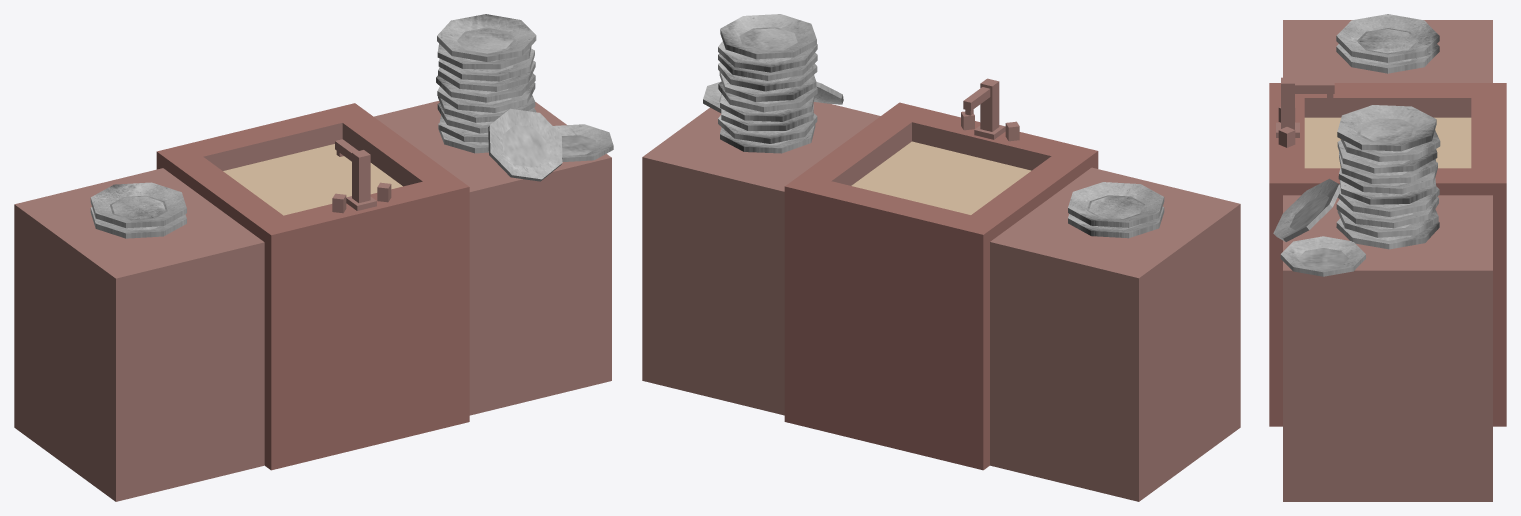
Rendered from Closed.Dishes.fbx.
3 views of the same model, side by side, from view 1: azimuth 30°, elevation 25°; view 2: azimuth 150°, elevation 25°; view 3: azimuth 270°, elevation 25° (orthographic). The views are drawn at different scales.
Visible parts, largest first — view 1: Closed.Dishes; view 2: Closed.Dishes; view 3: Closed.Dishes.
Boxes of the visible parts, x1,y1,x2,y2 form: Closed.Dishes: [14, 14, 613, 501]; Closed.Dishes: [642, 14, 1240, 501]; Closed.Dishes: [1269, 14, 1506, 501].
Size of the model in its own units: 5.17 by 3.15 by 2.
